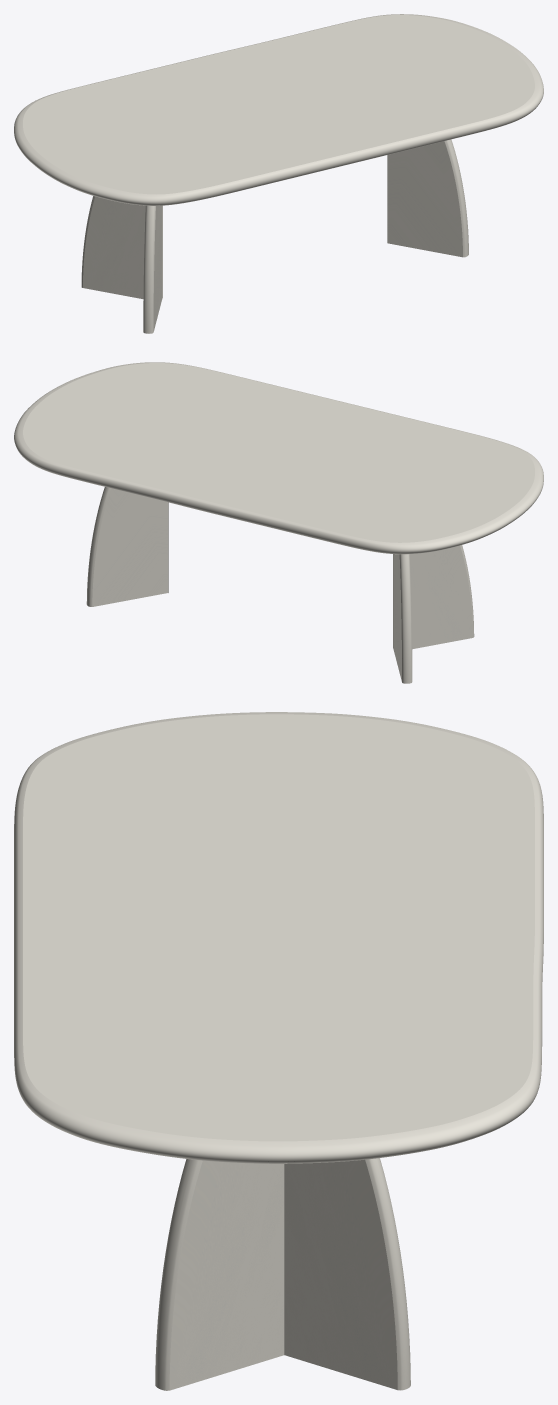
The model's file is pale_oval_round_newtable2.glb.
3 renders of one model, top to bottom at view 1: azimuth 30°, elevation 25°; view 2: azimuth 150°, elevation 25°; view 3: azimuth 270°, elevation 25°, orthographic. The views are drawn at different scales.
Parts seen in each view (by area): view 1: round_oval, newtable2_singleright2, newtable2_singleleft1, newtable2_singleright1; view 2: round_oval, newtable2_singleleft2, newtable2_singleright1, newtable2_singleleft1; view 3: round_oval, newtable2_singleright2, newtable2_singleleft2.
Boxes of the visible parts, x1=… form: round_oval: x1=14, y1=14, x2=543, y2=205; newtable2_singleright2: x1=387, y1=139, x2=468, y2=257; newtable2_singleleft1: x1=81, y1=196, x2=162, y2=299; newtable2_singleright1: x1=143, y1=205, x2=162, y2=333; round_oval: x1=14, y1=362, x2=543, y2=554; newtable2_singleleft2: x1=86, y1=487, x2=167, y2=606; newtable2_singleright1: x1=393, y1=545, x2=474, y2=649; newtable2_singleleft1: x1=393, y1=554, x2=412, y2=683; round_oval: x1=14, y1=712, x2=543, y2=1163; newtable2_singleright2: x1=155, y1=1159, x2=284, y2=1390; newtable2_singleleft2: x1=284, y1=1158, x2=410, y2=1390.
Size of the model in its own units: 7.5 by 2.49 by 3.8.
1 material, 1 textured.
